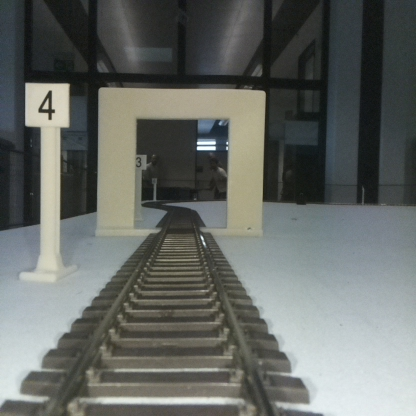white-info-4: (25, 83, 69, 278)
